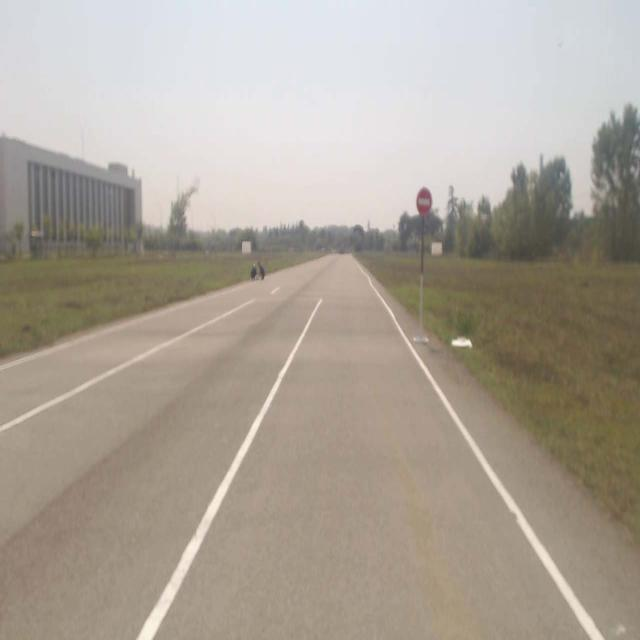girisyok: (417, 187, 431, 214)
